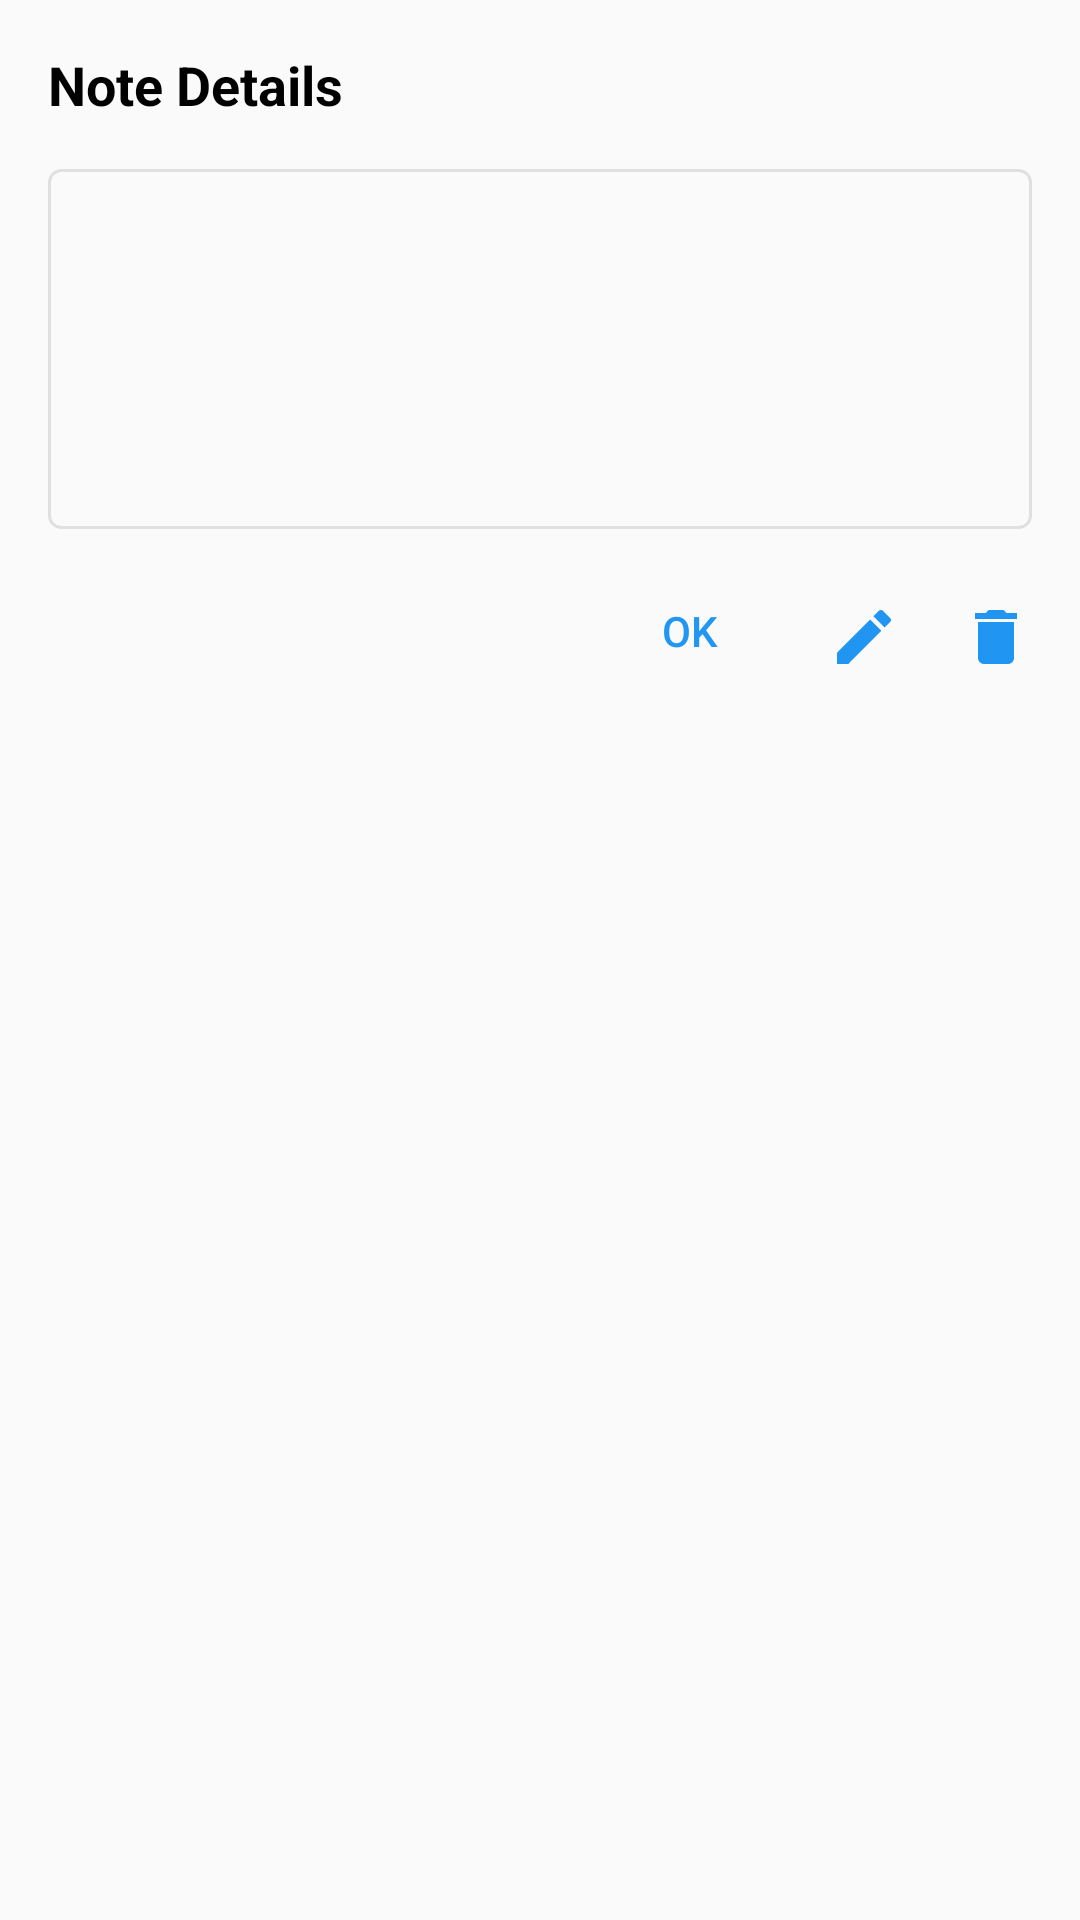

Where icons sit on this 1080w x 1920h app screen, as (x1, y1, x2, y2):
Delete: (975, 610, 1017, 664)
Edit: (837, 610, 891, 664)
